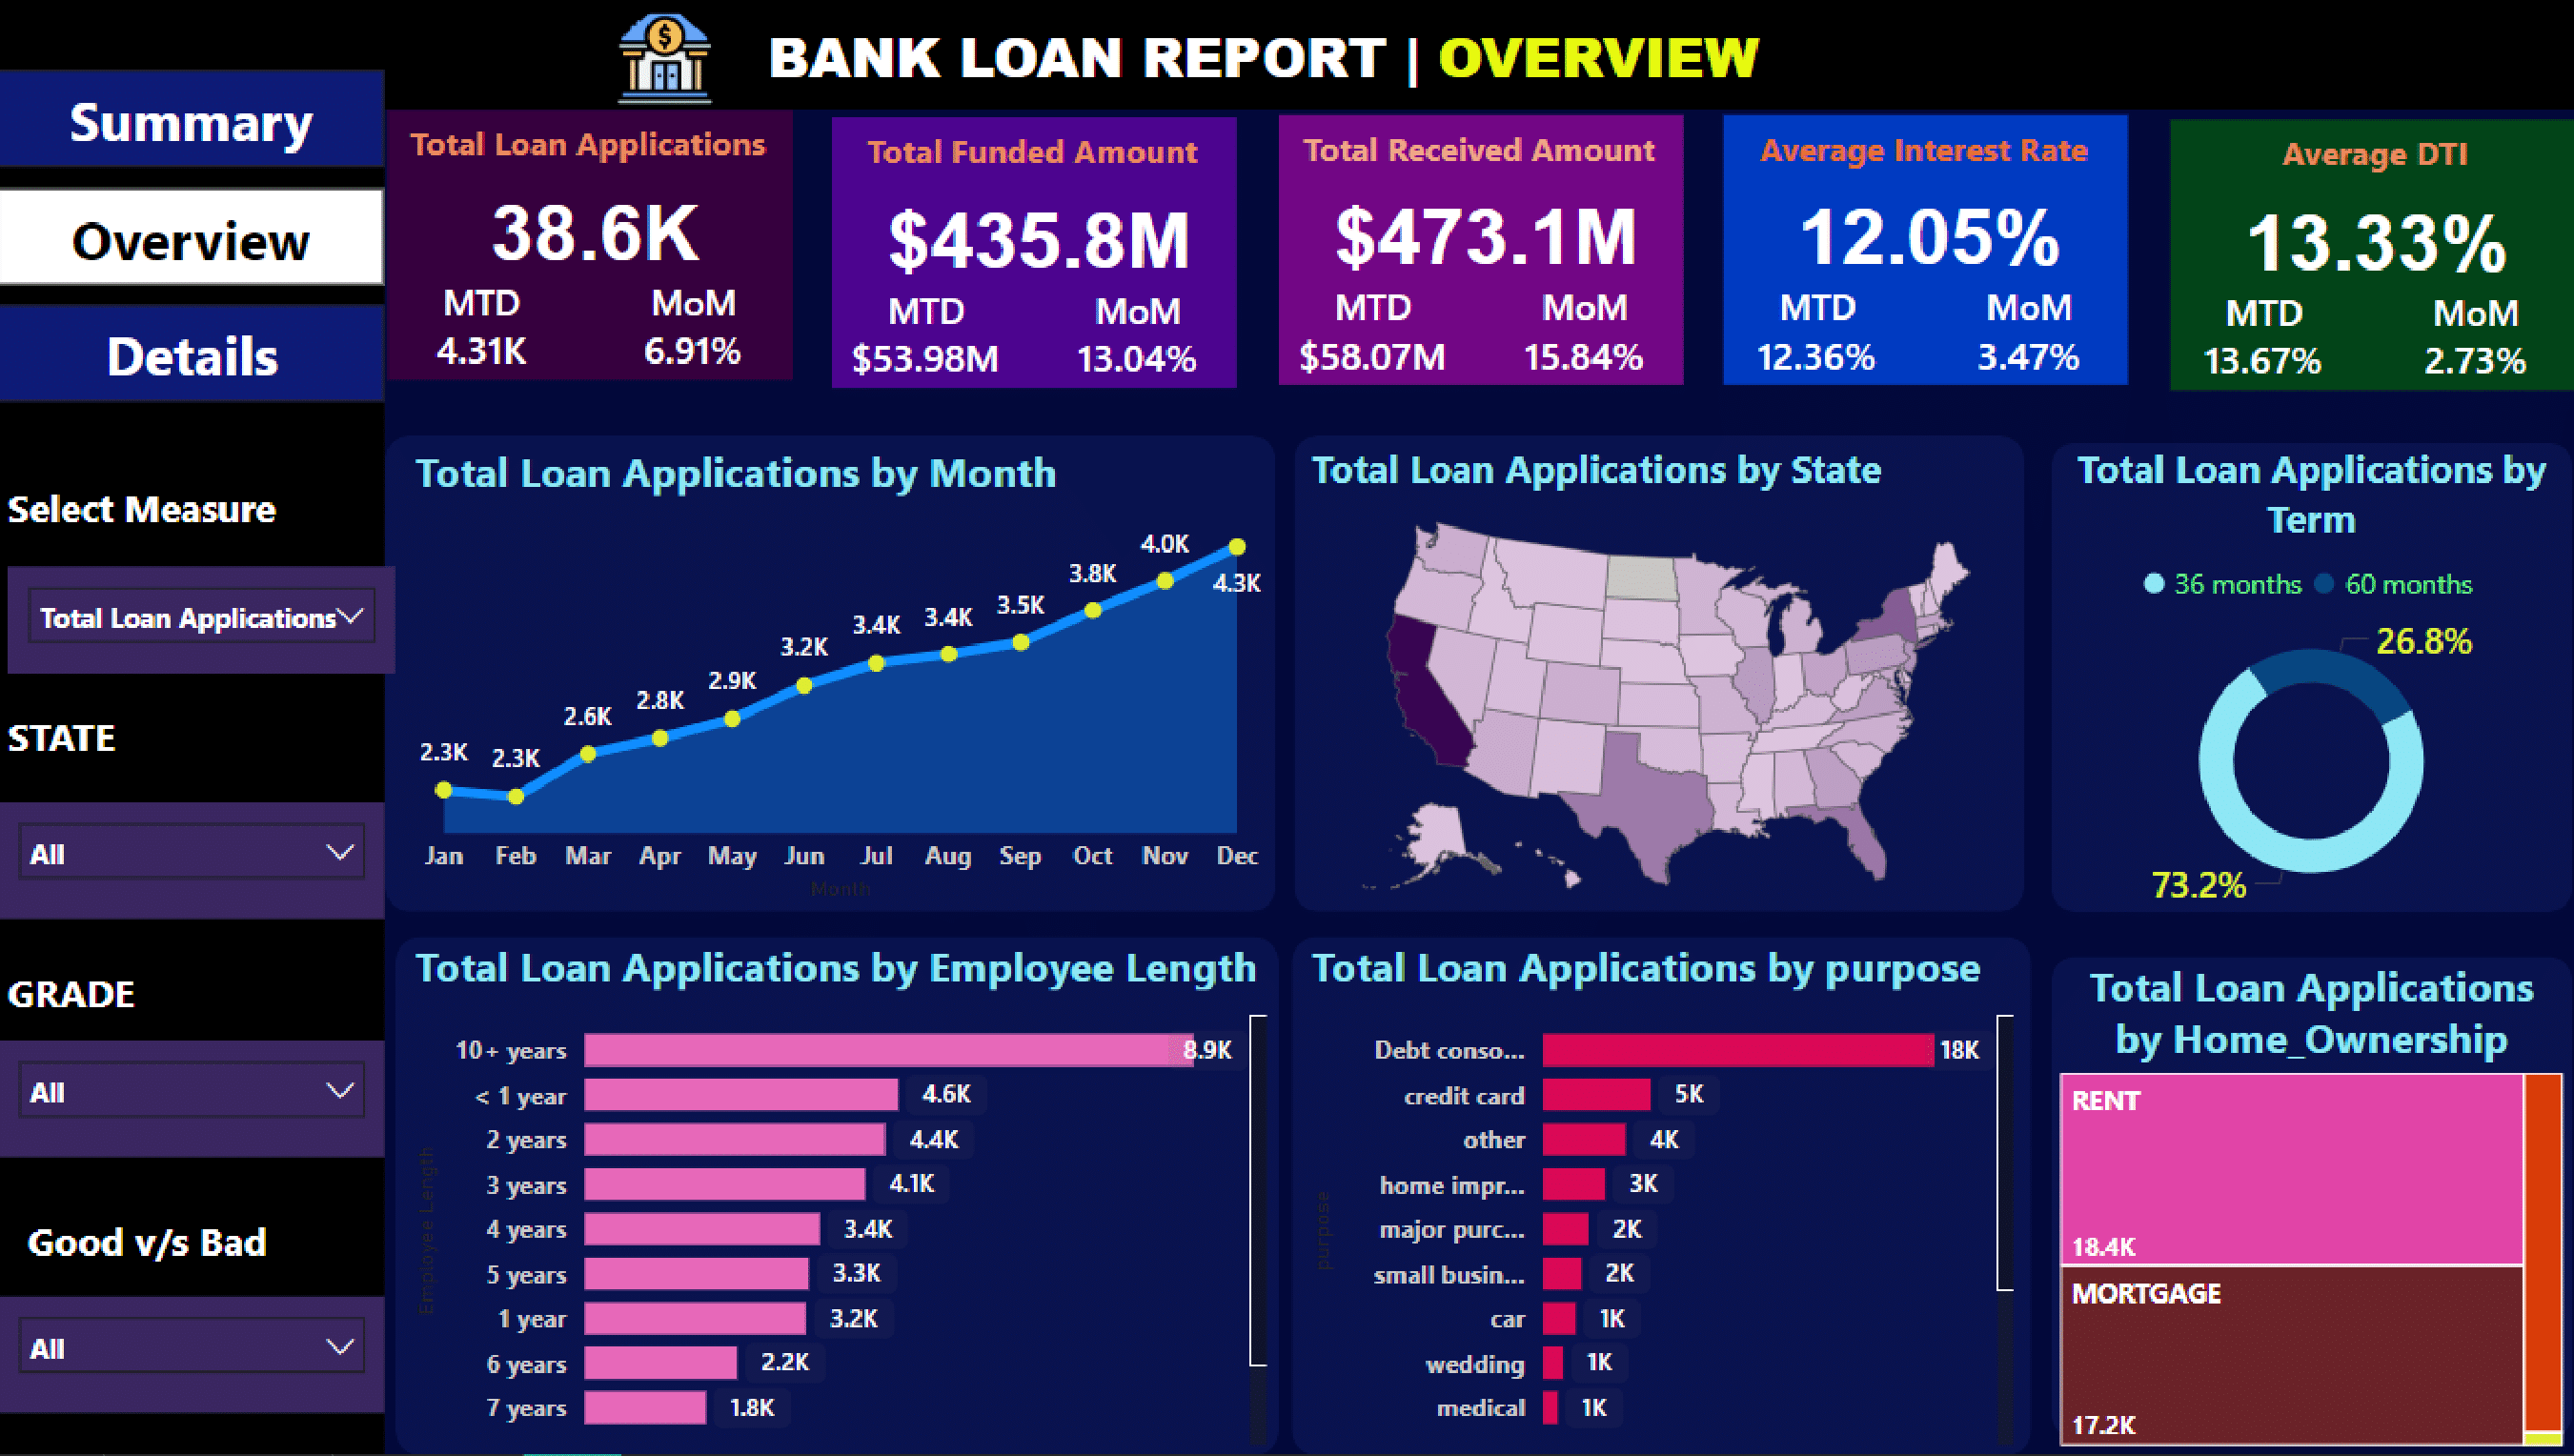

The page's visual inventory and layout, read from the dashboard file:
{"tool":"powerbi","page":{"name":"Overview","canvas":[1280,720],"ordinal":1},"visuals":[{"type":"shape","box":[192.2,55,200.2,133.8],"z":0,"group":"g1"},{"type":"shape","box":[0,55.2,191.4,665],"z":0},{"type":"shape","box":[632.8,57.7,200.2,133.8],"z":0,"group":"g4"},{"type":"shape","box":[853.1,57.7,200.2,133.8],"z":0,"group":"g3"},{"type":"shape","box":[412.4,59,200.2,133.8],"z":0,"group":"g2"},{"type":"shape","box":[1073.4,60.3,200.2,133.8],"z":0,"group":"g5"},{"type":"card","fields":{"Values":["Bank_Loan_Data.Total Loan Applications"]},"box":[198.4,89.3,193.1,49.7],"z":1000,"group":"g1"},{"type":"card","fields":{"Values":["Bank_Loan_Data.Total Amount Received"]},"box":[639,92,193.1,49.7],"z":1000,"group":"g4"},{"type":"card","fields":{"Values":["Bank_Loan_Data.Avg Interest Rate"]},"box":[859.3,92,193.1,49.7],"z":1000,"group":"g3"},{"type":"card","fields":{"Values":["Bank_Loan_Data.Total Funded Amount"]},"box":[418.6,93.3,193.1,49.7],"z":1000,"group":"g2"},{"type":"card","fields":{"Values":["Bank_Loan_Data.Avg DTI"]},"box":[1079.6,94.6,193.1,49.7],"z":1000,"group":"g5"},{"type":"shape","box":[640.5,216,360.7,235.6],"z":1000},{"type":"shape","box":[0,0,1280.3,55],"z":2000},{"type":"textbox","box":[191.2,55,200.2,56.8],"z":2000,"group":"g1"},{"type":"textbox","box":[631.8,57.7,200.2,56.8],"z":2000,"group":"g4"},{"type":"textbox","box":[852.1,57.7,200.2,56.8],"z":2000,"group":"g3"},{"type":"textbox","box":[411.4,59,200.2,56.8],"z":2000,"group":"g2"},{"type":"textbox","box":[1072.4,60.3,200.2,56.8],"z":2000,"group":"g5"},{"type":"card","title":"MTD","fields":{"Values":["Bank_Loan_Data.MTD Loan Applications"]},"box":[191.2,139,95,49.7],"z":3000,"group":"g1"},{"type":"card","title":"MTD","fields":{"Values":["Bank_Loan_Data.MTD Total Amount Received"]},"box":[631.8,141.7,95,49.7],"z":3000,"group":"g4"},{"type":"card","title":"MTD","fields":{"Values":["Bank_Loan_Data.MTD Avg Interest Rate"]},"box":[852.1,141.7,95,49.7],"z":3000,"group":"g3"},{"type":"card","title":"MTD","fields":{"Values":["Bank_Loan_Data.MTD Funded Amount"]},"box":[411.4,143,95,49.7],"z":3000,"group":"g2"},{"type":"card","title":"MTD","fields":{"Values":["Bank_Loan_Data.MTD Avg DTI"]},"box":[1072.4,144.3,95,49.7],"z":3000,"group":"g5"},{"type":"shape","box":[191.4,216,440,235.6],"z":3000},{"type":"textbox","box":[375.5,4.9,550.9,50.3],"z":4000},{"type":"card","title":"MoM","fields":{"Values":["Bank_Loan_Data.MoM Loan Application"]},"box":[295.4,139,96,49.7],"z":4000,"group":"g1"},{"type":"card","title":"MoM","fields":{"Values":["Bank_Loan_Data.MoM Total Amount Received"]},"box":[736,141.7,96,49.7],"z":4000,"group":"g4"},{"type":"card","title":"MoM","fields":{"Values":["Bank_Loan_Data.MoM Avg Interest Rate"]},"box":[956.3,141.7,96,49.7],"z":4000,"group":"g3"},{"type":"card","title":"MoM","fields":{"Values":["Bank_Loan_Data.MoM Total Funded Amount"]},"box":[515.6,143,96,49.7],"z":4000,"group":"g2"},{"type":"card","title":"MoM","fields":{"Values":["Bank_Loan_Data.MoM Avg DTI"]},"box":[1176.6,144.3,96,49.7],"z":4000,"group":"g5"},{"type":"group","id":"g1","title":"Group 1","box":[191.2,55,201.2,133.8],"z":5000},{"type":"group","id":"g2","title":"Group 1","box":[411.4,59,201.4,133.4],"z":6000},{"type":"group","id":"g3","title":"Group 1","box":[852.1,57.7,201.4,133.4],"z":7000},{"type":"group","id":"g4","title":"Group 1","box":[631.8,57.7,201.4,133.4],"z":8000},{"type":"group","id":"g5","title":"Group 1","box":[1072.4,60.3,201.4,133.4],"z":9000},{"type":"slicer","fields":{"Values":["Bank_Loan_Data.address_state"]},"box":[0,397.5,191.4,57.7],"z":10000},{"type":"textbox","box":[0,347.5,191.2,40],"z":11000},{"type":"slicer","fields":{"Values":["Bank_Loan_Data.grade"]},"box":[0,515,191.2,57.5],"z":12000},{"type":"textbox","box":[0,473.8,191.2,45],"z":13000},{"type":"slicer","fields":{"Values":["Bank_Loan_Data.Goood v/s Bad Loan"]},"box":[0,641.7,191.4,57.7],"z":14000},{"type":"textbox","box":[9.8,596.3,181.6,45.4],"z":15000},{"type":"areaChart","fields":{"Y2":["Bank_Loan_Data.Total Loan Applications"],"Category":["Date_Table.Month2"]},"box":[201.2,219.6,430.7,231.9],"z":16000},{"type":"slicer","fields":{"Values":["Select Measure.Select Measure"]},"box":[4.9,281,191.4,52.8],"z":17000},{"type":"textbox","box":[0,234.4,201.2,40.5],"z":18000},{"type":"shapeMap","fields":{"Value":["Bank_Loan_Data.Total Loan Applications"],"Category":["Bank_Loan_Data.address_state"]},"box":[644.2,219.6,360.7,235.6],"z":19000},{"type":"shape","box":[196.3,463.8,436.8,256.4],"z":20000},{"type":"shape","box":[1014.7,219.6,257.7,231.9],"z":21000},{"type":"donutChart","fields":{"Y":["Bank_Loan_Data.Total Loan Applications"],"Category":["Bank_Loan_Data.term"]},"box":[1014.7,219.6,257.7,235.6],"z":22000},{"type":"shape","box":[639.3,463.8,365.6,256.4],"z":23000},{"type":"shape","box":[1014.7,473.6,257.7,238],"z":24000},{"type":"clusteredBarChart","fields":{"Y":["Bank_Loan_Data.Total Loan Applications"],"Category":["Bank_Loan_Data.emp_length"]},"box":[201.2,463.8,430.7,256.4],"z":25000},{"type":"clusteredBarChart","fields":{"Y":["Bank_Loan_Data.Total Loan Applications"],"Category":["Bank_Loan_Data.purpose"]},"box":[644.2,463.8,357.1,256.4],"z":26000},{"type":"treemap","fields":{"Values":["Bank_Loan_Data.Total Loan Applications"],"Group":["Bank_Loan_Data.home_ownership"]},"box":[1014.7,473.6,257.7,246.6],"z":27000},{"type":"pageNavigator","box":[0,35.6,191.4,166.9],"z":27001},{"type":"image","box":[295.7,0,68.7,60.1],"z":27002}]}

Visuals, with their boxes in screenshot pixels (x1, y1, x2, y2), scaled from the page's 1280x720 canvas onto the 2574x1456 screenshot:
shape: bbox=[387, 111, 789, 382]
shape: bbox=[0, 111, 385, 1455]
shape: bbox=[1272, 116, 1675, 387]
shape: bbox=[1715, 116, 2118, 387]
shape: bbox=[829, 119, 1232, 390]
shape: bbox=[2159, 122, 2561, 393]
card - Bank_Loan_Data.Total Loan Applications: bbox=[399, 181, 787, 281]
card - Bank_Loan_Data.Total Amount Received: bbox=[1285, 186, 1673, 287]
card - Bank_Loan_Data.Avg Interest Rate: bbox=[1728, 186, 2117, 287]
card - Bank_Loan_Data.Total Funded Amount: bbox=[841, 189, 1230, 289]
card - Bank_Loan_Data.Avg DTI: bbox=[2171, 192, 2560, 292]
shape: bbox=[1288, 436, 2014, 913]
shape: bbox=[0, 0, 2573, 111]
textbox: bbox=[384, 111, 787, 226]
textbox: bbox=[1270, 116, 1673, 232]
textbox: bbox=[1713, 116, 2117, 232]
textbox: bbox=[827, 119, 1230, 234]
textbox: bbox=[2157, 122, 2559, 237]
"MTD" card: bbox=[384, 281, 576, 381]
"MTD" card: bbox=[1270, 287, 1462, 387]
"MTD" card: bbox=[1713, 287, 1905, 387]
"MTD" card: bbox=[827, 289, 1019, 390]
"MTD" card: bbox=[2157, 292, 2347, 393]
shape: bbox=[385, 436, 1269, 913]
textbox: bbox=[755, 10, 1863, 111]
"MoM" card: bbox=[594, 281, 787, 381]
"MoM" card: bbox=[1480, 287, 1673, 387]
"MoM" card: bbox=[1923, 287, 2117, 387]
"MoM" card: bbox=[1037, 289, 1230, 390]
"MoM" card: bbox=[2366, 292, 2559, 393]
"Group 1" group: bbox=[384, 111, 789, 382]
"Group 1" group: bbox=[827, 119, 1232, 389]
"Group 1" group: bbox=[1713, 116, 2118, 387]
"Group 1" group: bbox=[1270, 116, 1675, 387]
"Group 1" group: bbox=[2157, 122, 2562, 392]
slicer - Bank_Loan_Data.address_state: bbox=[0, 804, 385, 920]
textbox: bbox=[0, 702, 384, 783]
slicer - Bank_Loan_Data.grade: bbox=[0, 1041, 384, 1158]
textbox: bbox=[0, 959, 384, 1049]
slicer - Bank_Loan_Data.Goood v/s Bad Loan: bbox=[0, 1298, 385, 1414]
textbox: bbox=[20, 1205, 385, 1298]
areaChart - Bank_Loan_Data.Total Loan Applications x Date_Table.Month2: bbox=[405, 444, 1270, 913]
slicer - Select Measure.Select Measure: bbox=[10, 568, 395, 675]
textbox: bbox=[0, 474, 405, 556]
shapeMap - Bank_Loan_Data.Total Loan Applications x Bank_Loan_Data.address_state: bbox=[1295, 444, 2020, 920]
shape: bbox=[395, 938, 1273, 1455]
shape: bbox=[2040, 444, 2559, 913]
donutChart - Bank_Loan_Data.Total Loan Applications x Bank_Loan_Data.term: bbox=[2040, 444, 2559, 920]
shape: bbox=[1286, 938, 2020, 1455]
shape: bbox=[2040, 958, 2559, 1439]
clusteredBarChart - Bank_Loan_Data.Total Loan Applications x Bank_Loan_Data.emp_length: bbox=[405, 938, 1270, 1455]
clusteredBarChart - Bank_Loan_Data.Total Loan Applications x Bank_Loan_Data.purpose: bbox=[1295, 938, 2014, 1455]
treemap - Bank_Loan_Data.Total Loan Applications x Bank_Loan_Data.home_ownership: bbox=[2040, 958, 2559, 1455]
pageNavigator: bbox=[0, 72, 385, 410]
image: bbox=[595, 0, 733, 122]
